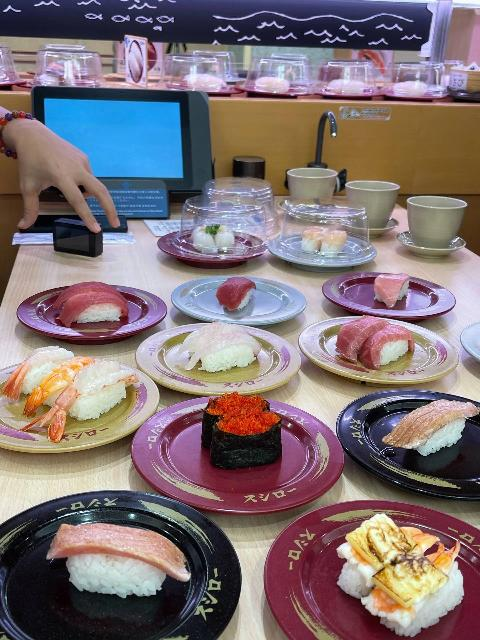janback: (0, 498, 230, 632), (338, 393, 480, 488)
jangold: (0, 343, 147, 480), (304, 311, 458, 392), (143, 328, 306, 402)
janred: (273, 493, 480, 640), (128, 400, 332, 506), (19, 260, 168, 335), (328, 272, 461, 317), (156, 217, 267, 269), (379, 63, 446, 112), (309, 63, 378, 109), (159, 60, 237, 96), (230, 57, 294, 100), (26, 62, 99, 97), (0, 69, 30, 82)
janwhite: (177, 259, 297, 321), (258, 228, 392, 273), (448, 313, 480, 365)
